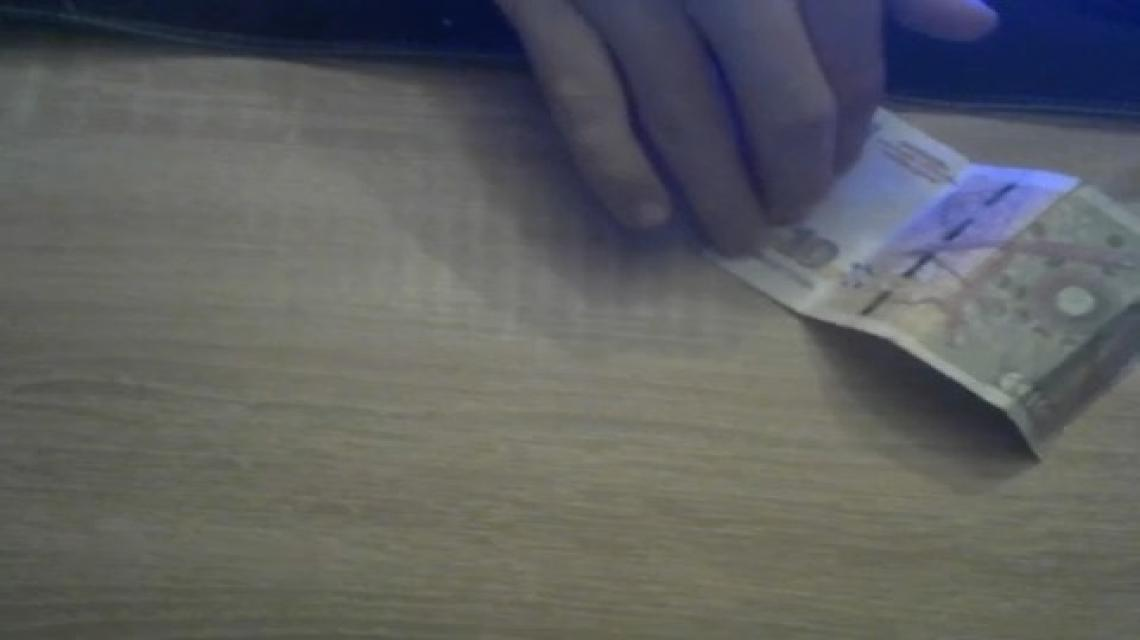10leva: (708, 108, 1140, 457)
